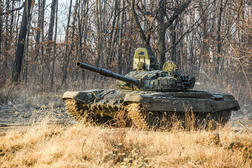t72: (63, 58, 237, 128)
